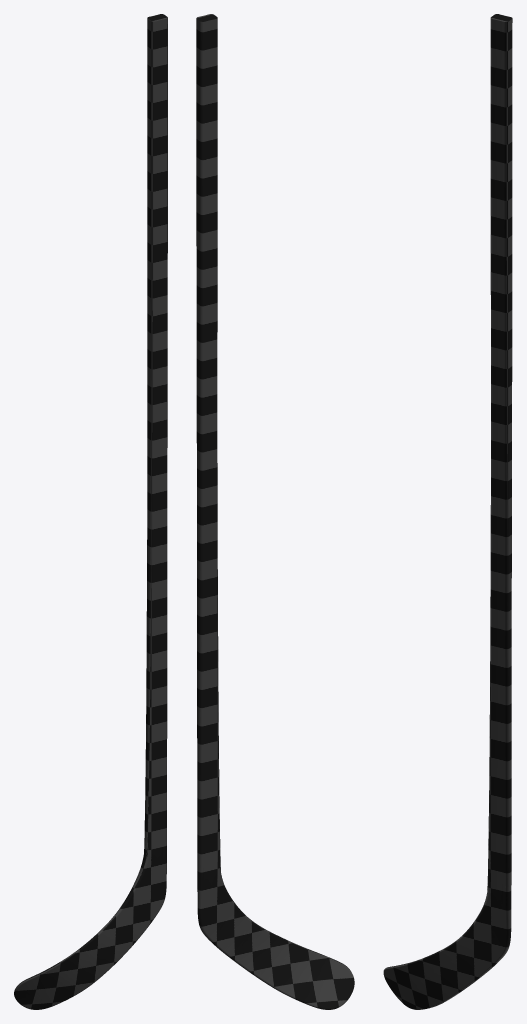
The model's file is P50-SBT.glb.
3 views of the same model, side by side, from view 1: azimuth 30°, elevation 25°; view 2: azimuth 210°, elevation 25°; view 3: azimuth 330°, elevation 25° (orthographic). The views are drawn at different scales.
Parts seen in each view (by area): view 1: geometry_0; view 2: geometry_0; view 3: geometry_0.
Boxes of the visible parts, box(x1,y1,x2,y2) form: geometry_0: box(14, 14, 167, 1009); geometry_0: box(196, 14, 354, 1009); geometry_0: box(383, 14, 512, 1009).
Size of the model in its own units: 240 by 1650 by 66.62.
Materials: 1 (1 with a texture image).
